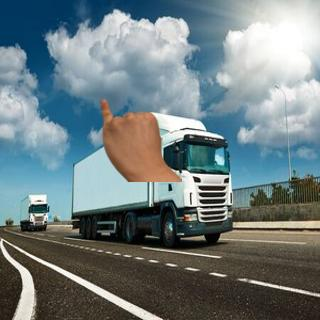FINE: (94, 96, 166, 179)
